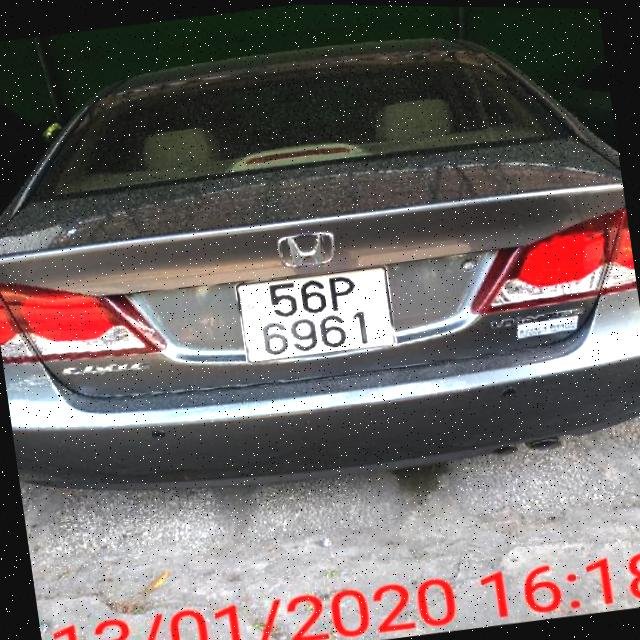car: (0, 0, 640, 529)
plate: (224, 255, 405, 377)
